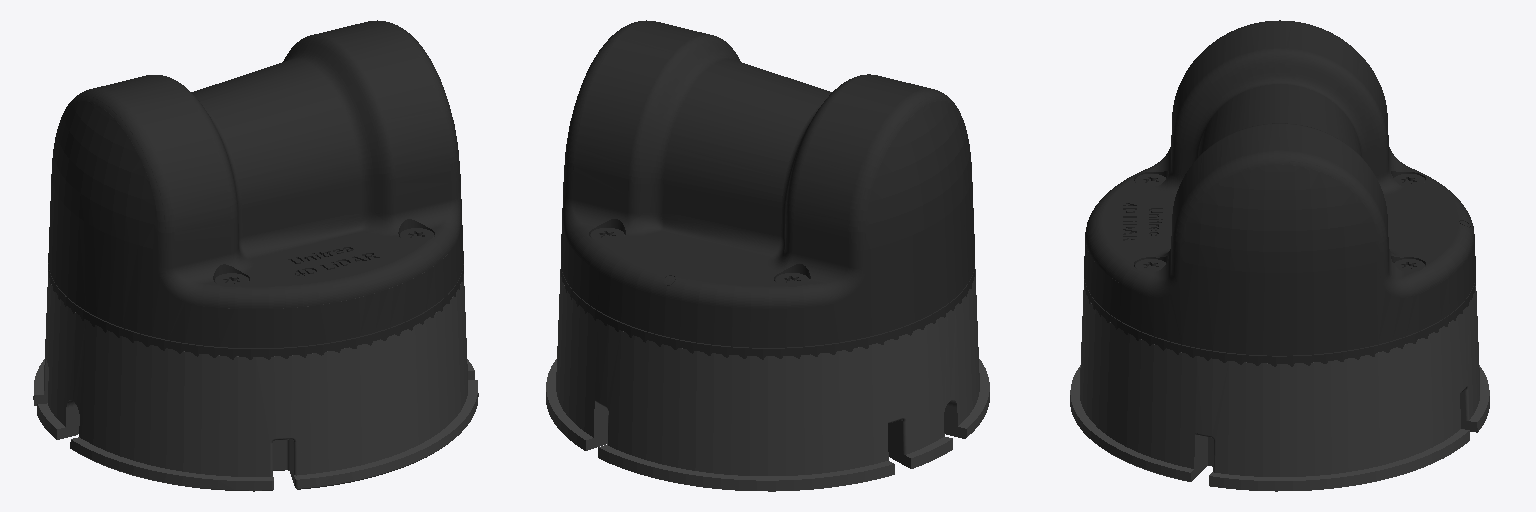
The robot description file, URDF, robot "UniLidarL2":
<?xml version="1.0" ?>
<!-- Generated using onshape-to-robot -->
<!-- Onshape https://tronsoc.onshape.com/documents/a04fc62c100c90ae88802972/w/c0a63c4f09140e5b63a1ee94/e/1b56bc429f9cc3690af229f3 -->
<robot name="UniLidarL2">
  <!-- Link unilidarl2_base -->
  <link name="unilidarl2_base">
    <inertial>
      <origin xyz="6.88756e-05 4.86924e-06 0.00436145" rpy="0 0 0"/>
      <mass value="0.1"/>
      <inertia ixx="4.63963e-05" ixy="1.473e-09" ixz="9.141e-08" iyy="4.60192e-05" iyz="3.537e-09" izz="8.42575e-05"/>
    </inertial>
    <!-- Part unilidarl2_base -->
    <visual>
      <origin xyz="-1.94934e-06 -0.53025 0.313234" rpy="3.14159 -0.349066 1.5708"/>
      <geometry>
        <mesh filename="package://kanga_description/assets_UniLidarL2/unilidarl2_base.stl"/>
      </geometry>
      <material name="unilidarl2_base_material">
        <color rgba="0.301961 0.301961 0.301961 1"/>
      </material>
    </visual>
    <collision>
      <origin xyz="-1.94934e-06 -0.53025 0.313234" rpy="3.14159 -0.349066 1.5708"/>
      <geometry>
        <mesh filename="package://kanga_description/assets_UniLidarL2/unilidarl2_base.stl"/>
      </geometry>
    </collision>
  </link>
  <!-- Link unilidarl2_top -->
  <link name="unilidarl2_top">
    <inertial>
      <origin xyz="6.66489e-05 -2.74177e-06 0.0157604" rpy="0 0 0"/>
      <mass value="0.13"/>
      <inertia ixx="3.66094e-05" ixy="-1.075e-09" ixz="-9.3857e-08" iyy="5.78833e-05" iyz="-2.975e-09" izz="7.00661e-05"/>
    </inertial>
    <!-- Part unilidarl2_top -->
    <visual>
      <origin xyz="-1.94934e-06 -0.53025 0.290634" rpy="3.14159 -0.349066 1.5708"/>
      <geometry>
        <mesh filename="package://kanga_description/assets_UniLidarL2/unilidarl2_top.stl"/>
      </geometry>
      <material name="unilidarl2_top_material">
        <color rgba="0.215686 0.215686 0.215686 1"/>
      </material>
    </visual>
    <collision>
      <origin xyz="-1.94934e-06 -0.53025 0.290634" rpy="3.14159 -0.349066 1.5708"/>
      <geometry>
        <mesh filename="package://kanga_description/assets_UniLidarL2/unilidarl2_top.stl"/>
      </geometry>
    </collision>
  </link>
  <!-- Joint from unilidarl2_base to unilidarl2_top -->
  <joint name="LidarTop" type="revolute">
    <origin xyz="-0 0 0.0214" rpy="0 -0 0"/>
    <parent link="unilidarl2_base"/>
    <child link="unilidarl2_top"/>
    <axis xyz="0 0 1"/>
    <limit effort="10" velocity="10" lower="0" upper="0"/>
  </joint>
</robot>

--- What the picture shows (computed from the rendered views, not written in the file) ---
The picture shows the robot from 3 angles, left to right: view 1: azimuth 30°, elevation 25°; view 2: azimuth 150°, elevation 25°; view 3: azimuth 270°, elevation 25°; orthographic projection.
Robot: UniLidarL2 — 2 links, 1 joints (1 revolute); root link unilidarl2_base; default pose: all joints at 0.
Visible links, largest first — view 1: unilidarl2_top, unilidarl2_base; view 2: unilidarl2_top, unilidarl2_base; view 3: unilidarl2_top, unilidarl2_base.
Link boxes in pixels (x1=…): unilidarl2_top: x1=48, y1=20, x2=463, y2=359; unilidarl2_base: x1=33, y1=272, x2=478, y2=491; unilidarl2_top: x1=561, y1=20, x2=974, y2=359; unilidarl2_base: x1=546, y1=269, x2=989, y2=491; unilidarl2_top: x1=1084, y1=20, x2=1475, y2=366; unilidarl2_base: x1=1070, y1=286, x2=1489, y2=491.
Size in the robot's own frame: 0.0749 by 0.075 by 0.0623 metres.
2 mesh visuals loaded from 2 distinct referenced files (2 binary STL).
